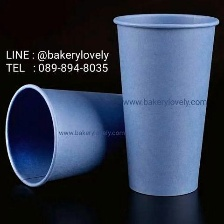paper_cup: (106, 7, 221, 200), (0, 79, 137, 190)
